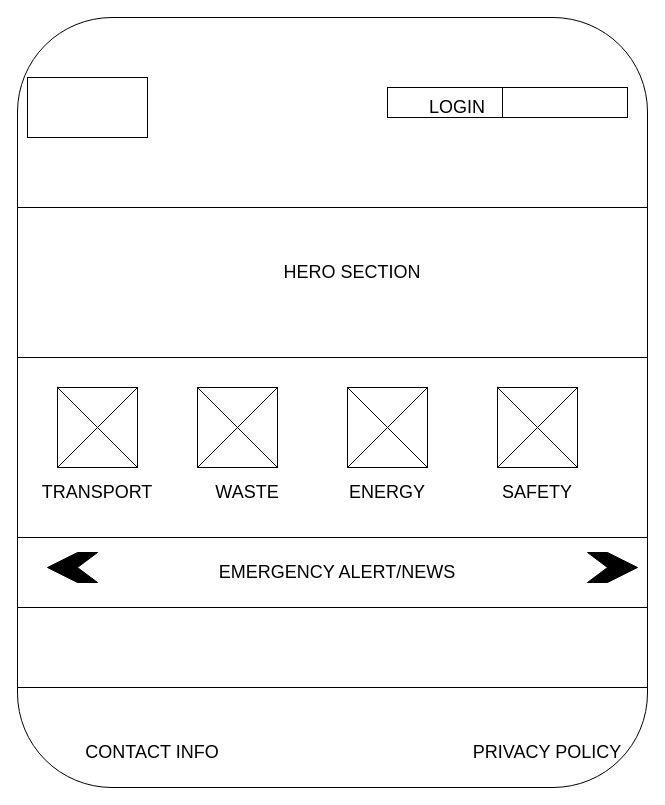
Some shapes in this 665 by 805 pixel diagram are drawn without their labels. The shapes that lost their labels are listed below. From the top down, each one's centre as x and y in pixels, then its label:
At point (87, 107): "LOGO".
At point (565, 102): "REGISTER".
